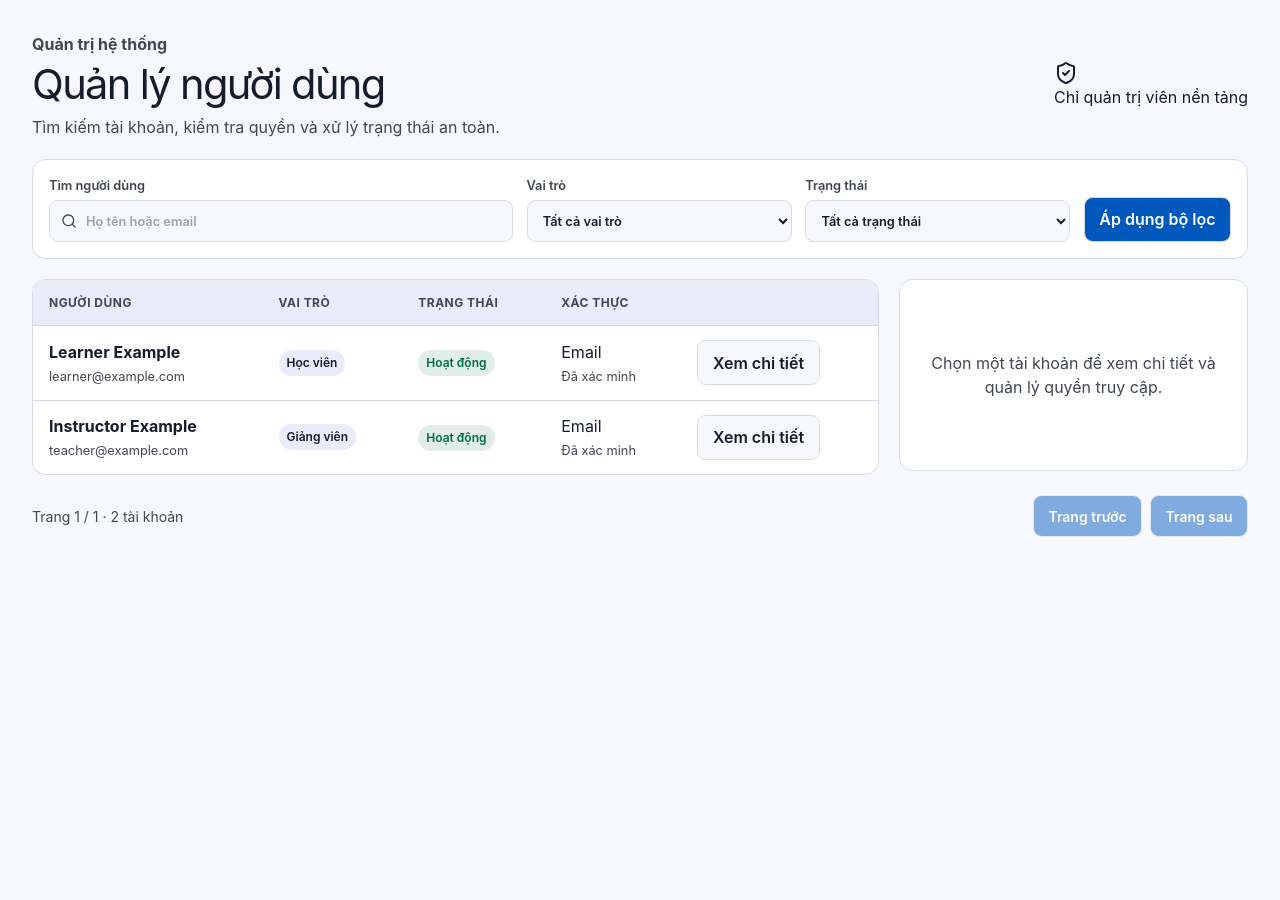
AdminUserManagementPage › keeps the newest account selected when detail responses arrive out of order
This screenshot has width=1280, height=900.
Click the button with aria-label "Xem chi tiết Learner Example" at point(758, 363), box x1=698 y1=340 x2=820 y2=386
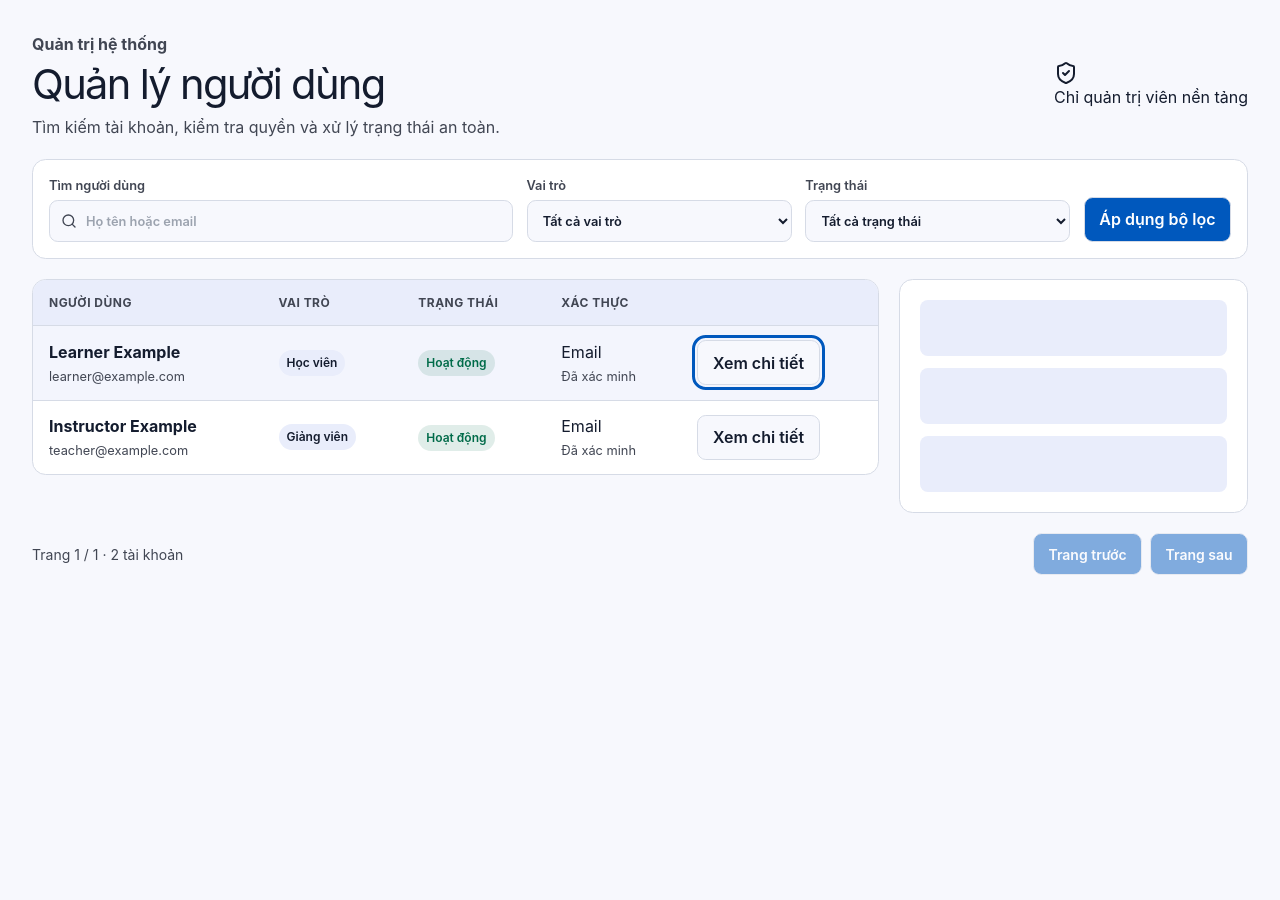
Click the button with aria-label "Xem chi tiết Instructor Example" at point(758, 437), box x1=698 y1=415 x2=820 y2=460
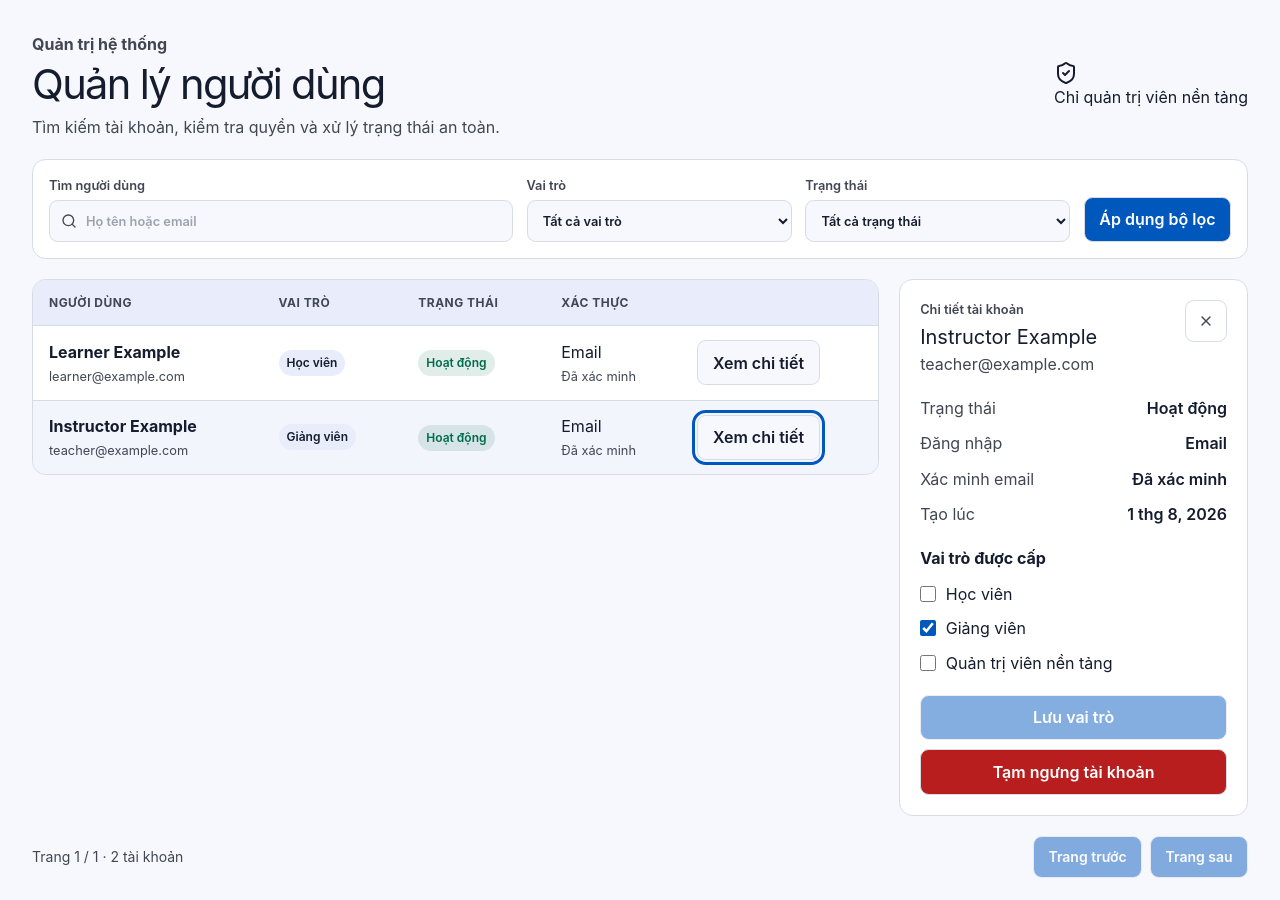
Check: the heading "Instructor Example" is shown, box x1=920 y1=322 x2=1097 y2=352
